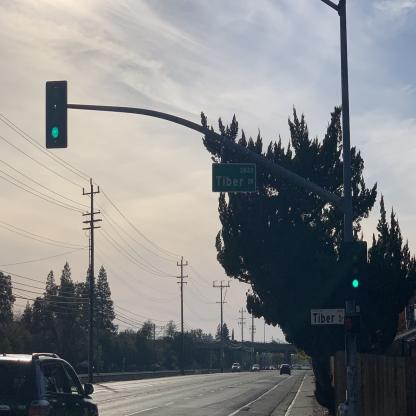green: (341, 241, 369, 300), (46, 81, 68, 149)
